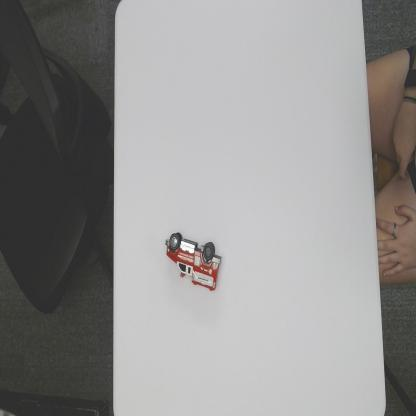Firetruck: (164, 231, 223, 293)
